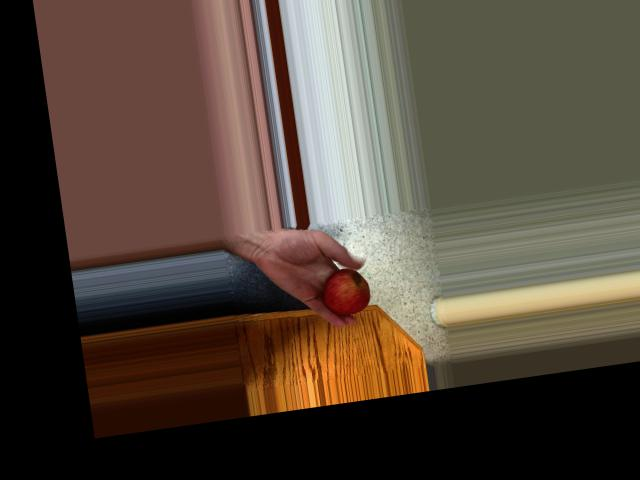apple: (316, 262, 372, 317)
